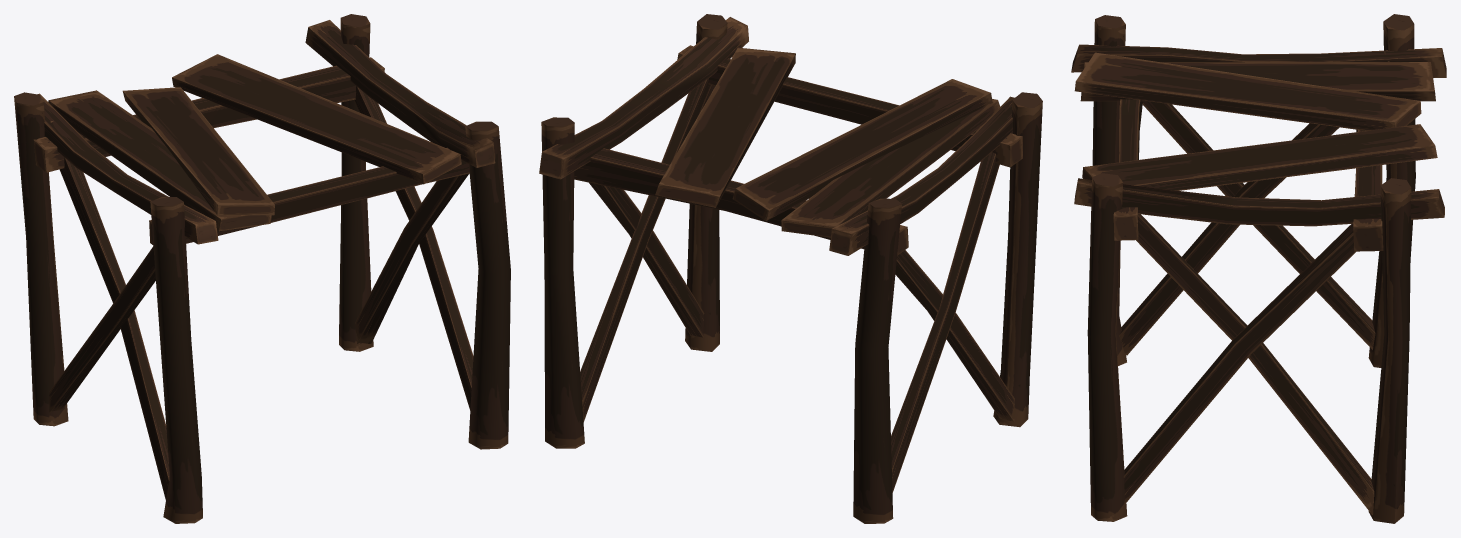
The model's file is SM_PROP_woodbridge_dungeon_03.fbx.
The picture shows the model from 3 angles, left to right: view 1: azimuth 30°, elevation 25°; view 2: azimuth 150°, elevation 25°; view 3: azimuth 270°, elevation 25°; orthographic projection. The views are drawn at different scales.
Parts seen in each view (by area): view 1: SM_PROP_woodbridge_dungeon_03; view 2: SM_PROP_woodbridge_dungeon_03; view 3: SM_PROP_woodbridge_dungeon_03.
Part boxes in pixels (bbox=[...]): SM_PROP_woodbridge_dungeon_03: bbox=[14, 14, 510, 523]; SM_PROP_woodbridge_dungeon_03: bbox=[539, 14, 1042, 523]; SM_PROP_woodbridge_dungeon_03: bbox=[1071, 14, 1446, 523].
Size of what is drawn, in the model's own units: 406 by 353 by 362.
